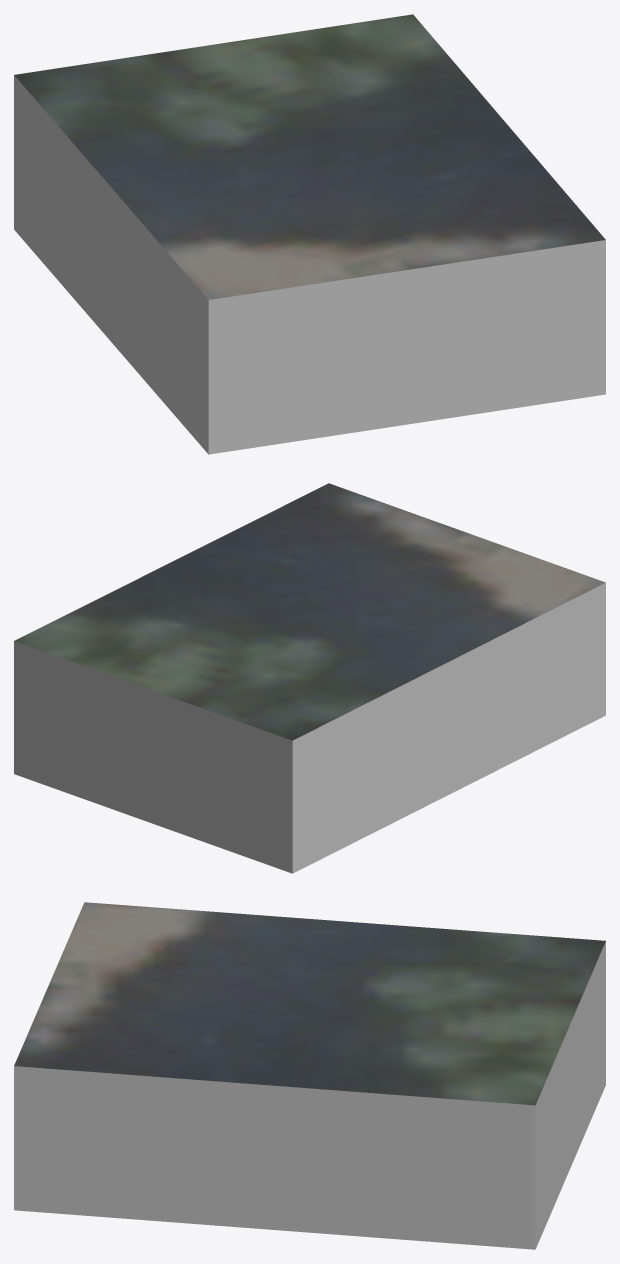
File: DEBW_0010007TxhQ.gltf
3 views of the same model, one above another, from view 1: azimuth 30°, elevation 25°; view 2: azimuth 150°, elevation 25°; view 3: azimuth 270°, elevation 25° (orthographic). The views are drawn at different scales.
Visible parts, largest first — view 1: Z_UP; view 2: Z_UP; view 3: Z_UP.
Boxes of the visible parts, bbox=[...] form: Z_UP: bbox=[14, 14, 605, 454]; Z_UP: bbox=[14, 483, 605, 873]; Z_UP: bbox=[14, 902, 605, 1249].
Bounding box in the file's own units: 7.58 × 2.51 × 9.33.
Materials: 2 (1 with a texture image).
